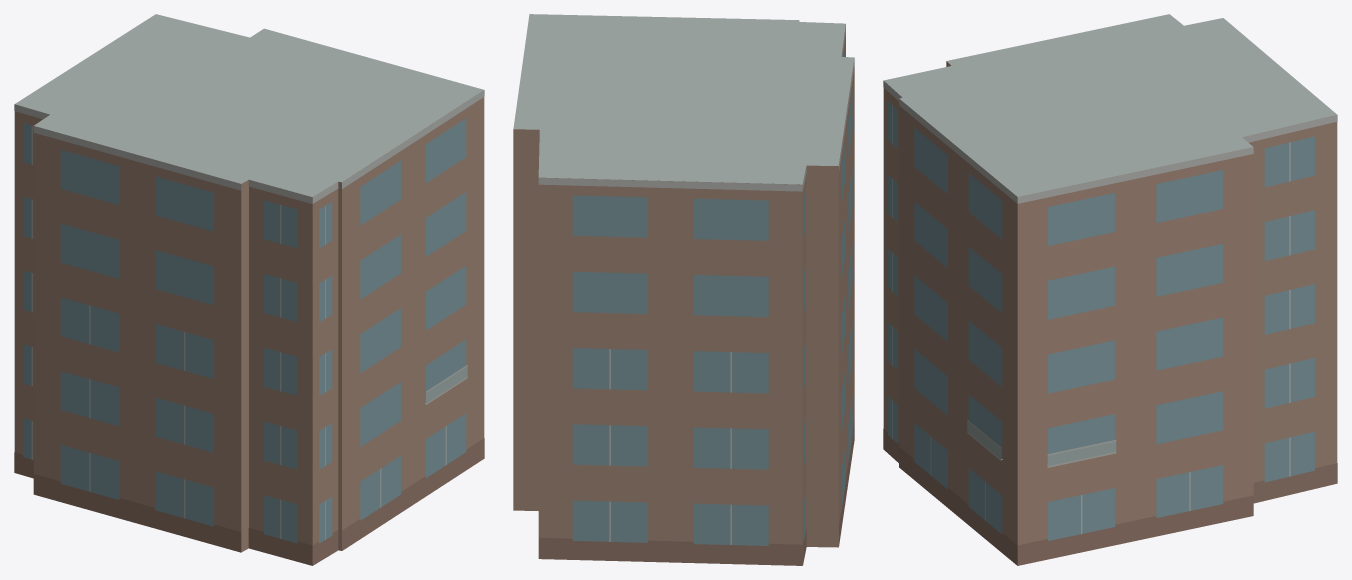
Rendered from survey-upis-32830170.glb.
3 views of the same model, side by side, from view 1: azimuth 30°, elevation 25°; view 2: azimuth 150°, elevation 25°; view 3: azimuth 270°, elevation 25° (orthographic). The views are drawn at different scales.
Visible parts, largest first — view 1: survey-upis-32830170.tmp; view 2: survey-upis-32830170.tmp; view 3: survey-upis-32830170.tmp.
Part boxes in pixels (x1,y1,x2,y2): survey-upis-32830170.tmp: (14, 14, 484, 565); survey-upis-32830170.tmp: (513, 14, 854, 565); survey-upis-32830170.tmp: (883, 14, 1337, 565).
Size of the model in its own units: 14 by 13.15 by 14.68.
